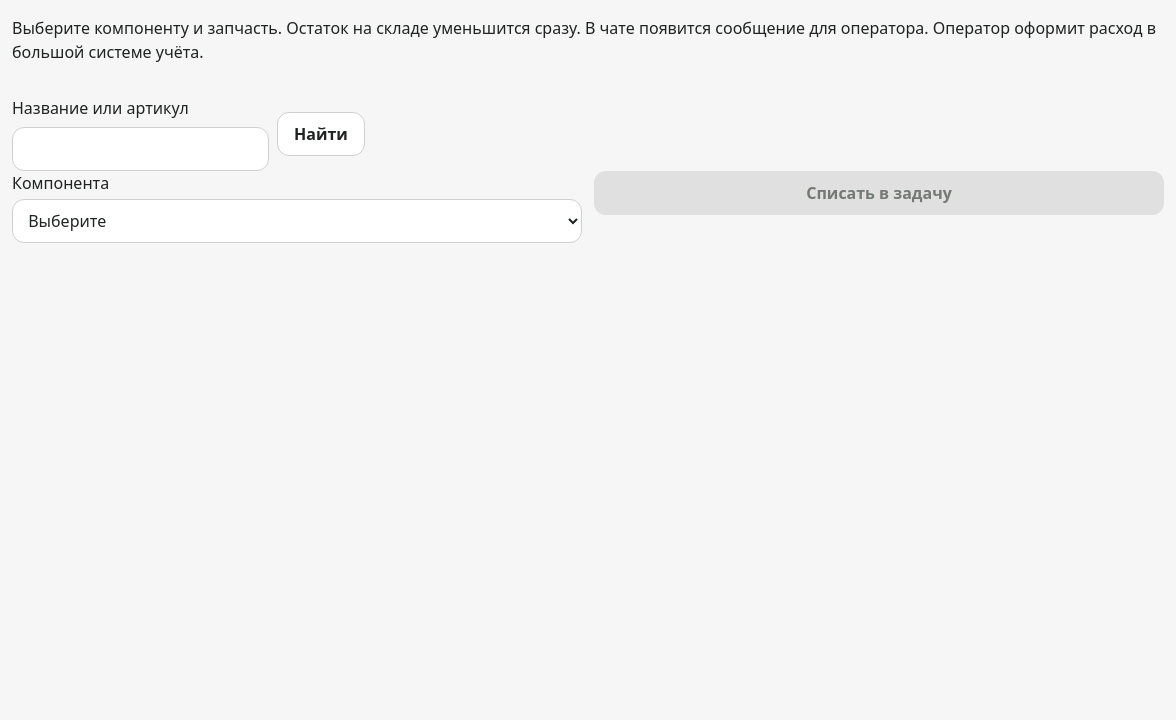
finds an absent catalog part by article without allowing a writeoff
Check: the dropdown labelled "Компонента" is shown, box [12, 199, 582, 243]
In the search field labelled "Название или артикул": (140, 149) [12, 127, 269, 171], type "WH-900"
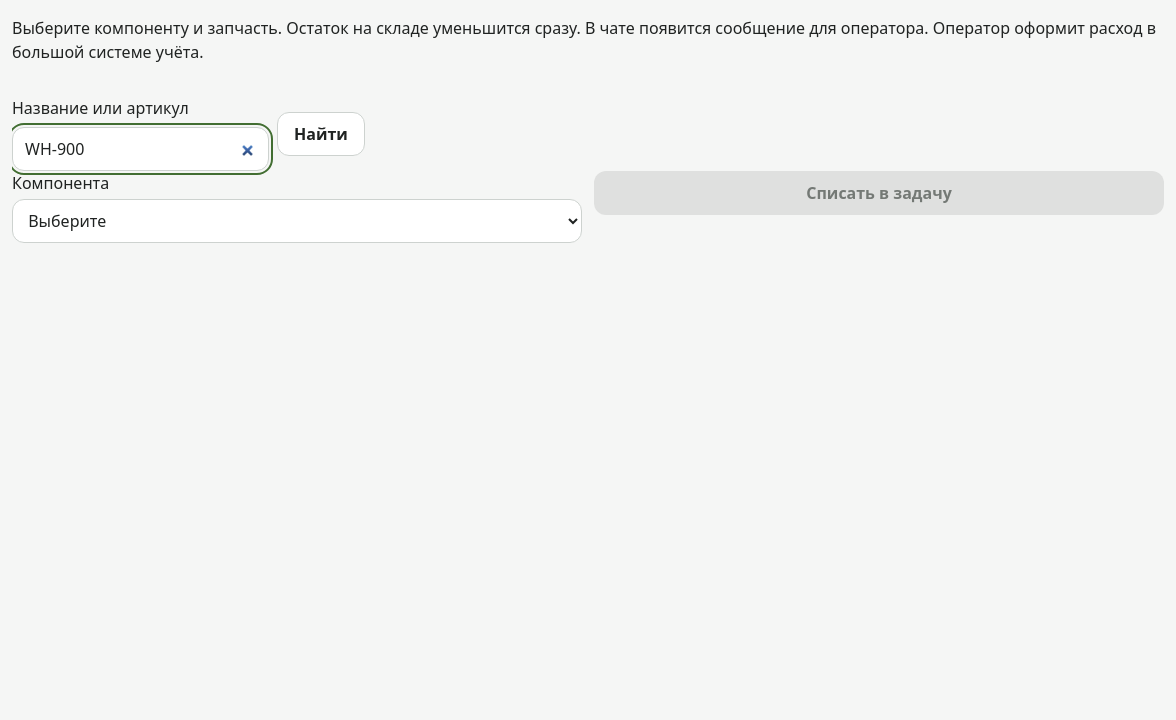
Click the button "Найти": (321, 134) [277, 112, 365, 156]
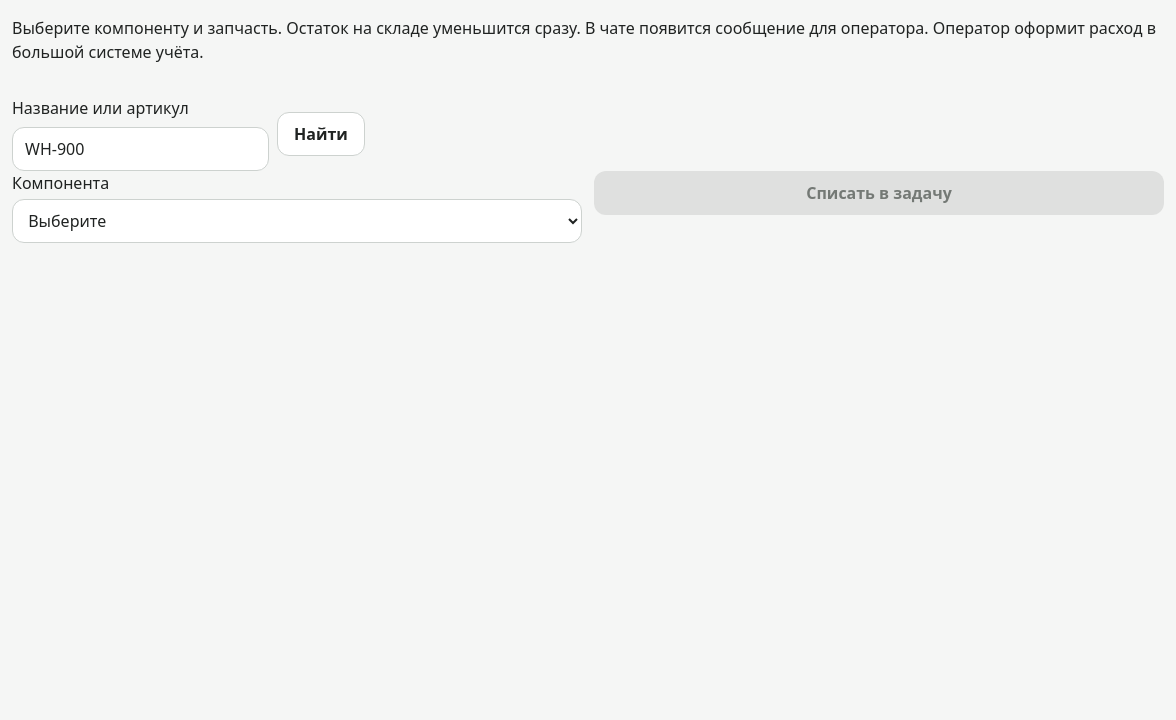
Select "Колёса" in the dropdown labelled "Компонента": (297, 221) [12, 199, 582, 243]
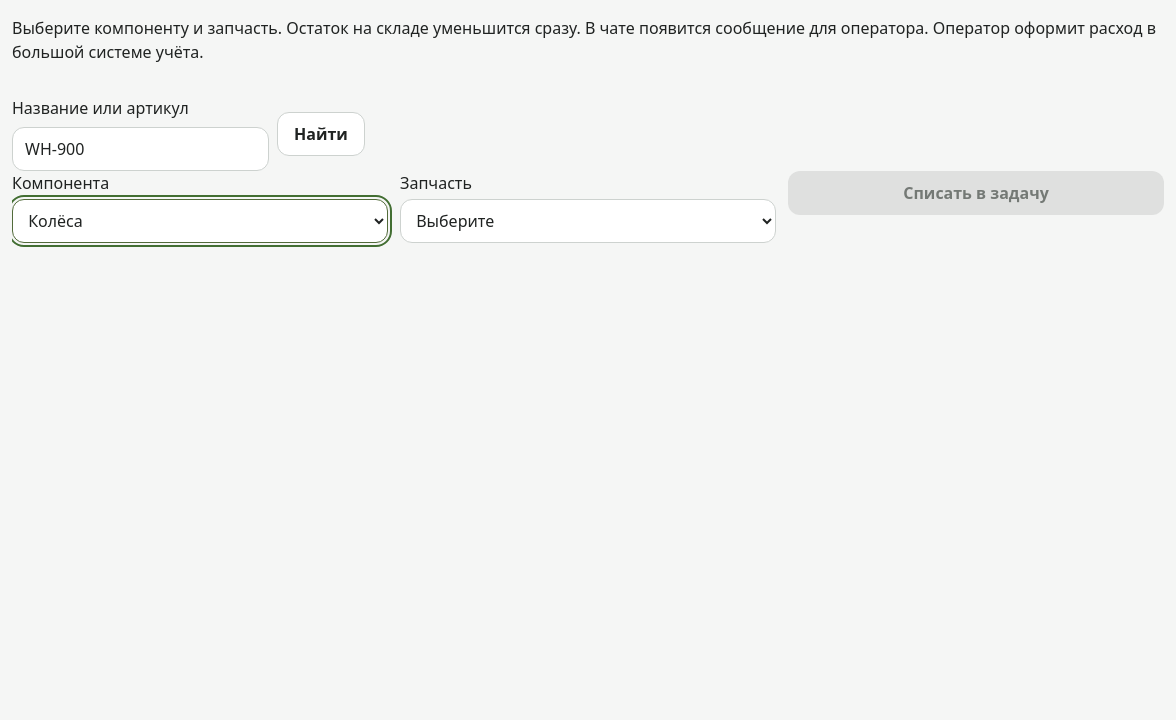
Select "Шина · WH-900 · 0 шт." in the dropdown labelled "Запчасть": (588, 221) [400, 199, 776, 243]
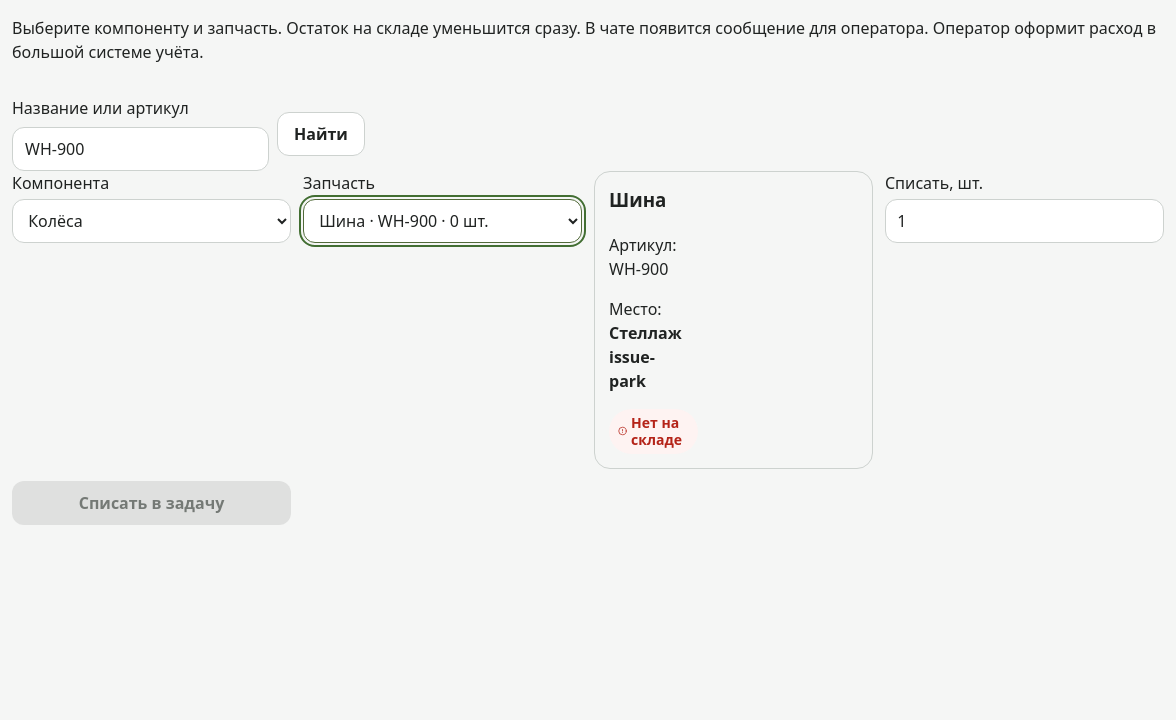
Check: the button "Списать в задачу" is disabled, box [12, 481, 291, 525]
Check: the text "Нет на складе" is shown, box [609, 409, 698, 454]
